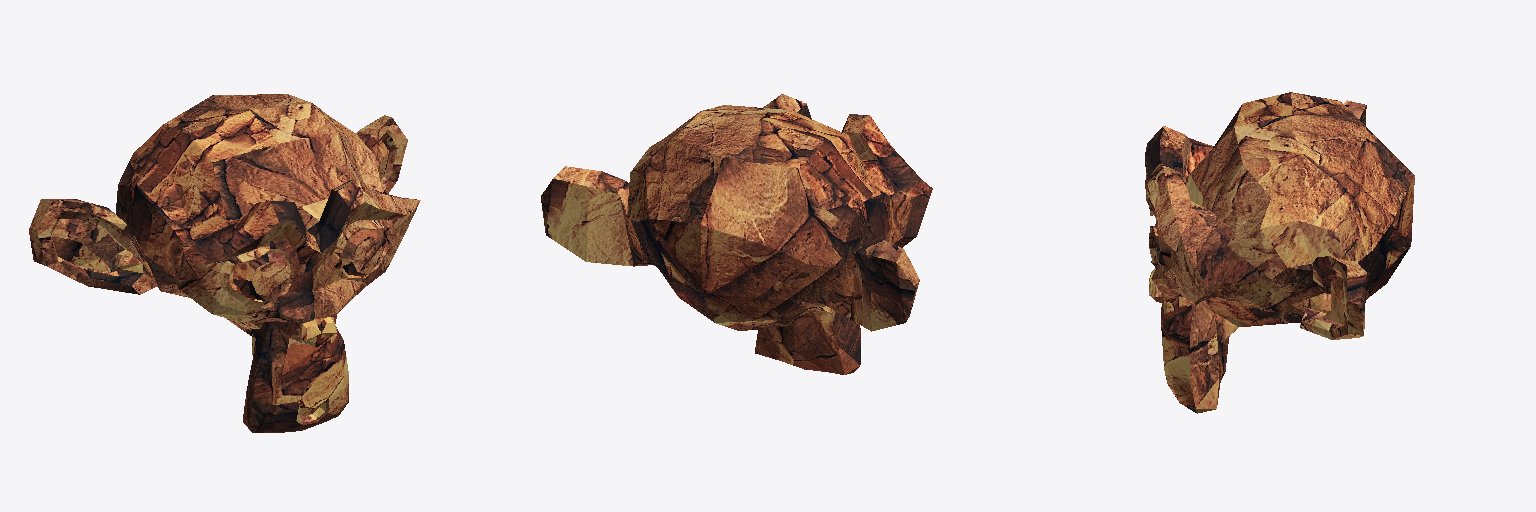
3 renders of one model, left to right at view 1: azimuth 30°, elevation 25°; view 2: azimuth 150°, elevation 25°; view 3: azimuth 270°, elevation 25°, orthographic.
Parts seen in each view (by area): view 1: Suzanne; view 2: Suzanne; view 3: Suzanne.
Part boxes in pixels (left/top/right/bottom): Suzanne: left=29, top=94, right=420, bottom=432; Suzanne: left=541, top=94, right=932, bottom=374; Suzanne: left=1145, top=92, right=1414, bottom=413.
Bounding box in the file's own units: 2.73 × 1.97 × 1.7.
Materials: 1 (1 with a texture image).